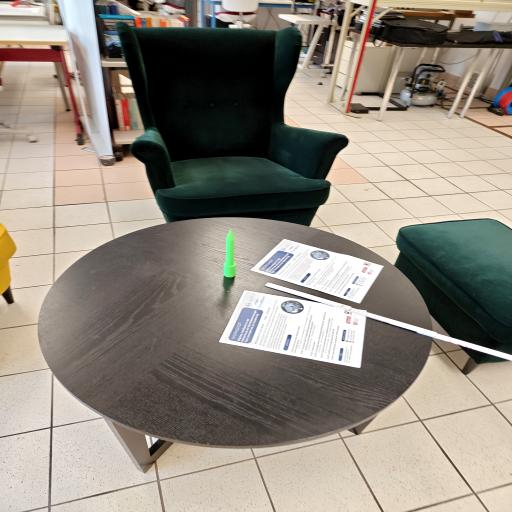Probe-Detection: (224, 230, 237, 277)
